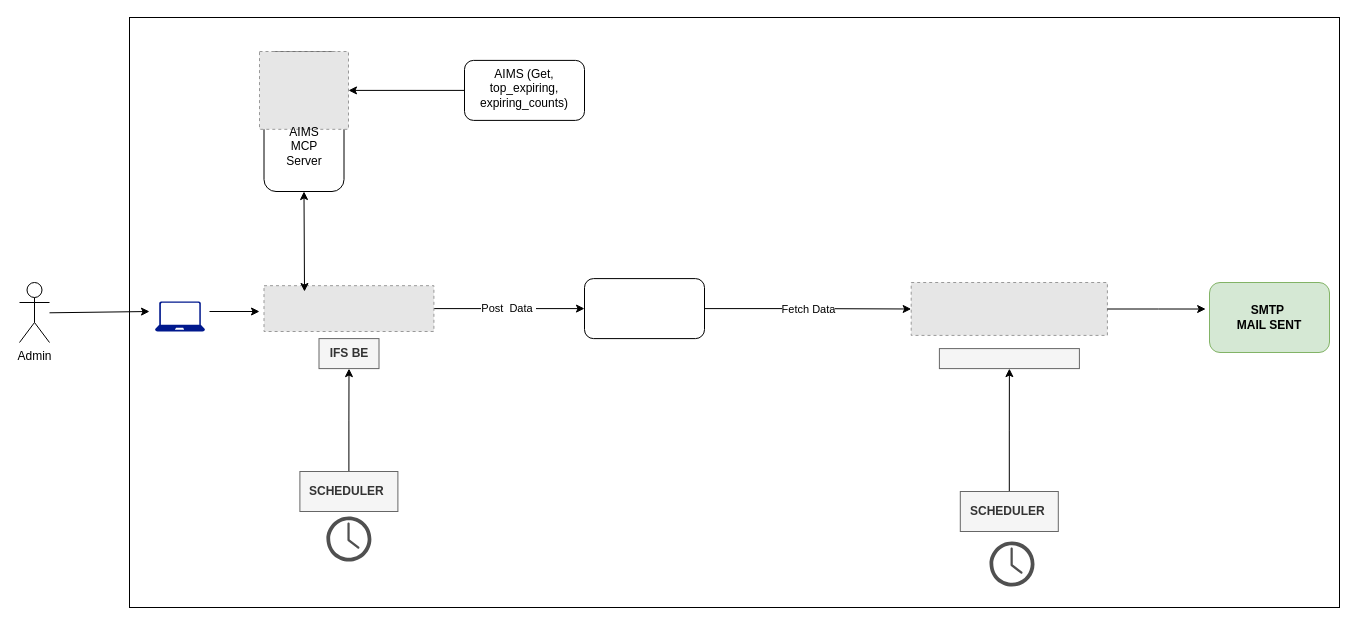
The diagram is 1357 pixels wide and 625 high, and some of its shapes have lost their labels. Grey dashed boxes stand in for pictures. Each missing label, with the centre of its shape:
FIRESTORE: [644,308]
IFS-365: [179,316]
MAIL SERVICE BE: [1008,358]
